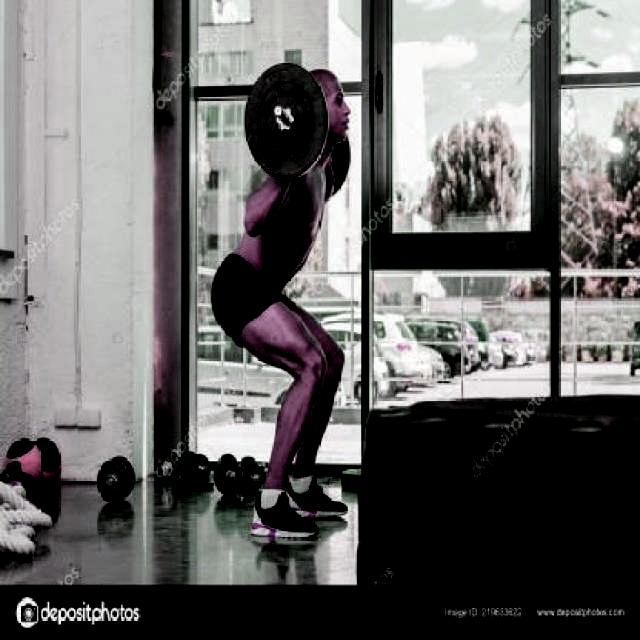barbell: (242, 58, 332, 182)
